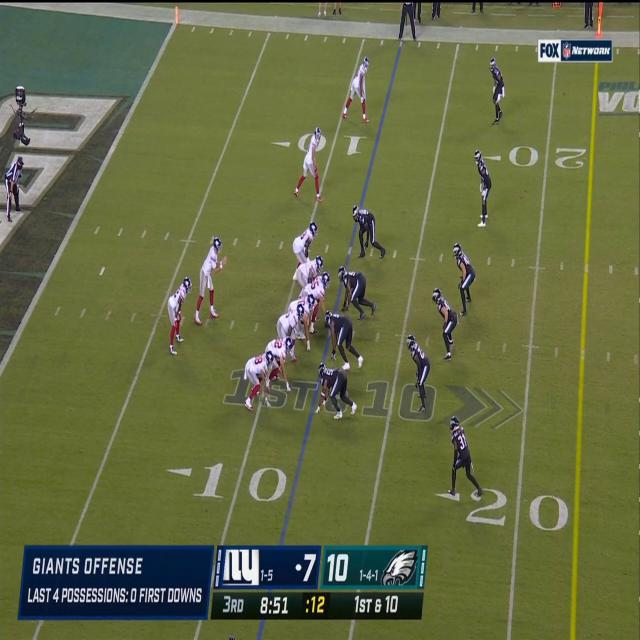players: (446, 415, 485, 501), (196, 235, 228, 326), (293, 123, 326, 205), (336, 264, 379, 325), (328, 309, 367, 376), (318, 363, 361, 423), (350, 201, 390, 265), (341, 53, 374, 125), (406, 332, 432, 418), (429, 286, 458, 362), (240, 352, 275, 411), (450, 242, 475, 324), (166, 273, 189, 358), (262, 337, 293, 393), (473, 150, 494, 230), (277, 304, 307, 356), (290, 221, 319, 274), (304, 269, 332, 323), (293, 253, 328, 296), (488, 58, 509, 125)
